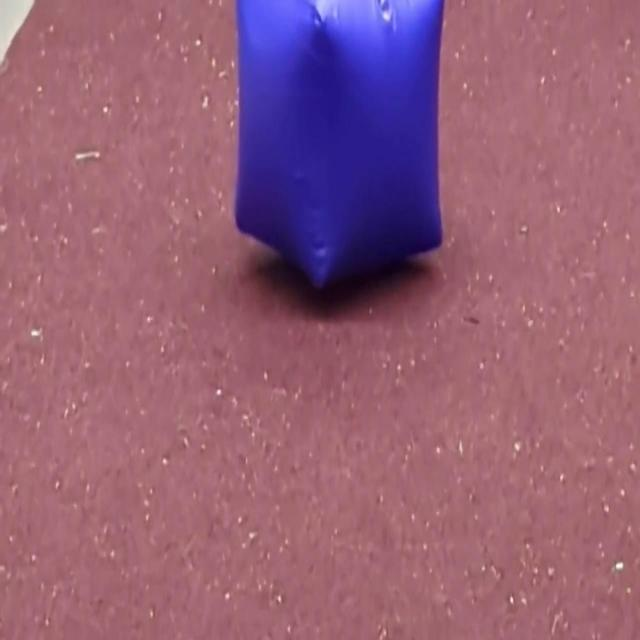frc_cube: (232, 0, 446, 302)
